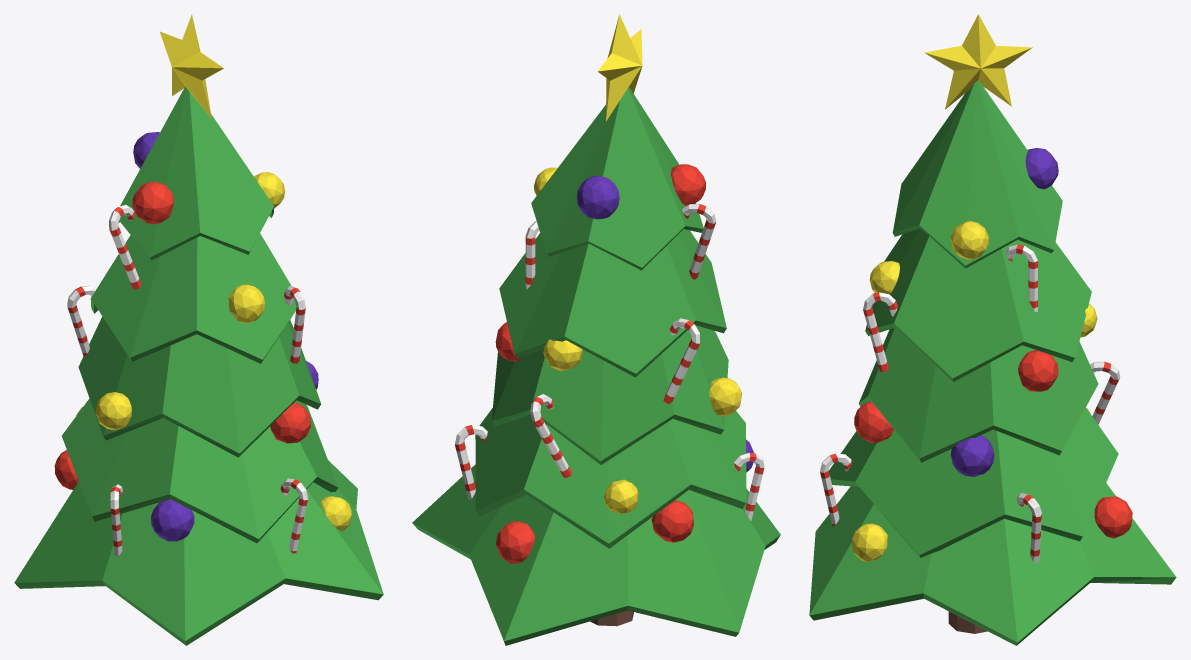
Rendered from Christmas Tree.glb.
3 renders of one model, left to right at view 1: azimuth 30°, elevation 25°; view 2: azimuth 150°, elevation 25°; view 3: azimuth 270°, elevation 25°, orthographic.
Parts seen in each view (by area): view 1: group558281359, group148092846, group667748054, group615263083, group1540402439, group1827880687, group1410509470, group1089073295, group1164989660, group1127207942, group179461400, group77345095 (+8 smaller); view 2: group558281359, group148092846, group615263083, group667748054, group1540402439, group1827880687, group2051798186, group1832615123, group411241951, group1089073295, group1969426104, group948351503 (+8 smaller); view 3: group558281359, group148092846, group615263083, group667748054, group1540402439, group1827880687, group214022184, group1633066821, group411241951, group922588407, group1164989660, group1084830891 (+7 smaller).
Part boxes in pixels (box(x1,y1,x2,y2)): group558281359: box(14, 460, 383, 645); group148092846: box(62, 398, 338, 543); group667748054: box(78, 316, 320, 457); group615263083: box(90, 233, 296, 363); group1540402439: box(118, 86, 273, 260); group1827880687: box(159, 14, 223, 118); group1410509470: box(151, 499, 194, 541); group1089073295: box(132, 182, 173, 224); group1164989660: box(270, 402, 310, 443); group1127207942: box(228, 284, 265, 322); group179461400: box(95, 392, 131, 430); group77345095: box(109, 205, 140, 289); group558281359: box(412, 464, 780, 645); group148092846: box(475, 408, 746, 548); group615263083: box(499, 229, 726, 377); group667748054: box(491, 325, 728, 464); group1540402439: box(531, 87, 703, 270); group1827880687: box(597, 14, 642, 121); group2051798186: box(576, 176, 619, 219); group1832615123: box(651, 500, 693, 542); group411241951: box(495, 521, 534, 563); group1089073295: box(671, 164, 705, 206); group1969426104: box(663, 318, 699, 403); group948351503: box(530, 394, 572, 477); group558281359: box(809, 483, 1176, 645); group148092846: box(829, 407, 1118, 557); group615263083: box(865, 228, 1091, 381); group667748054: box(858, 327, 1098, 462); group1540402439: box(892, 80, 1062, 268); group1827880687: box(924, 14, 1032, 109); group214022184: box(950, 435, 994, 476); group1633066821: box(1018, 350, 1058, 391); group411241951: box(1094, 496, 1132, 538); group922588407: box(950, 221, 989, 259); group1164989660: box(854, 401, 893, 443); group1084830891: box(851, 523, 887, 561).
Size of the model in its own units: 0.8953 by 1.54 by 0.848.
